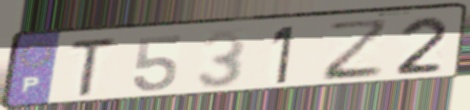1: (269, 24, 296, 86)
2: (392, 14, 450, 77)
3: (195, 28, 250, 90)
5: (130, 32, 185, 93)
T: (67, 36, 120, 100)
Z: (322, 16, 392, 83)
